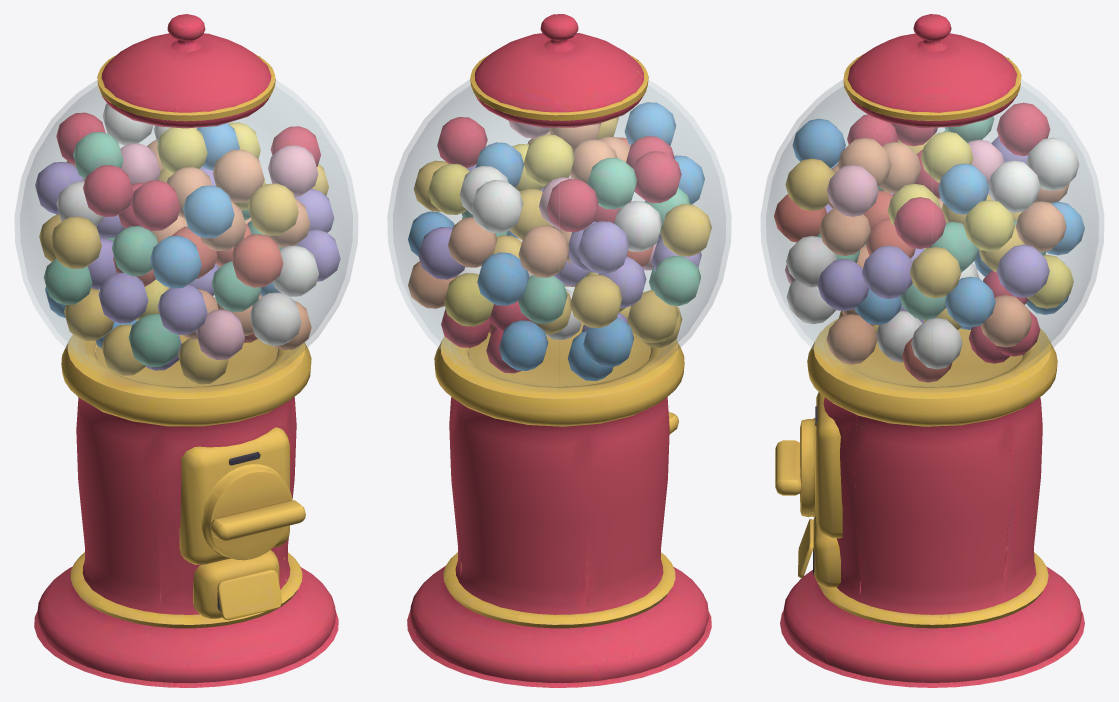
File: maquina_chicles.glb
3 views of the same model, side by side, from view 1: azimuth 30°, elevation 25°; view 2: azimuth 150°, elevation 25°; view 3: azimuth 270°, elevation 25° (orthographic).
Visible parts, largest first — view 1: gumball-machine_body; view 2: gumball-machine_body; view 3: gumball-machine_body.
Boxes of the visible parts, x1=… form: gumball-machine_body: x1=14, y1=14, x2=358, y2=687; gumball-machine_body: x1=387, y1=14, x2=731, y2=687; gumball-machine_body: x1=760, y1=14, x2=1104, y2=687.
Bounding box in the file's own units: 0.1896 × 0.3694 × 0.1896.
Materials: 3 (2 with a texture image).
